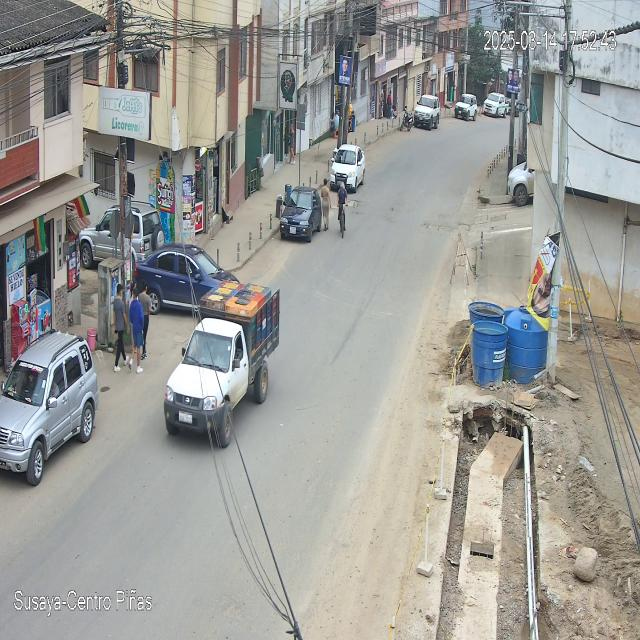CMT: (164, 284, 282, 451)
